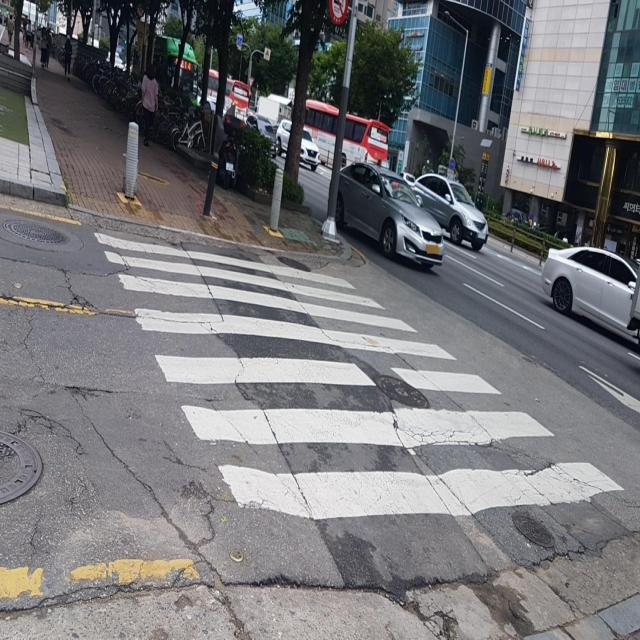횡단보도: (89, 223, 629, 524)
